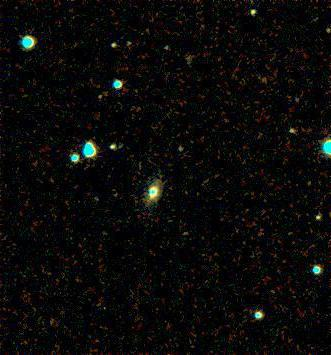star: (86, 79, 116, 109)
